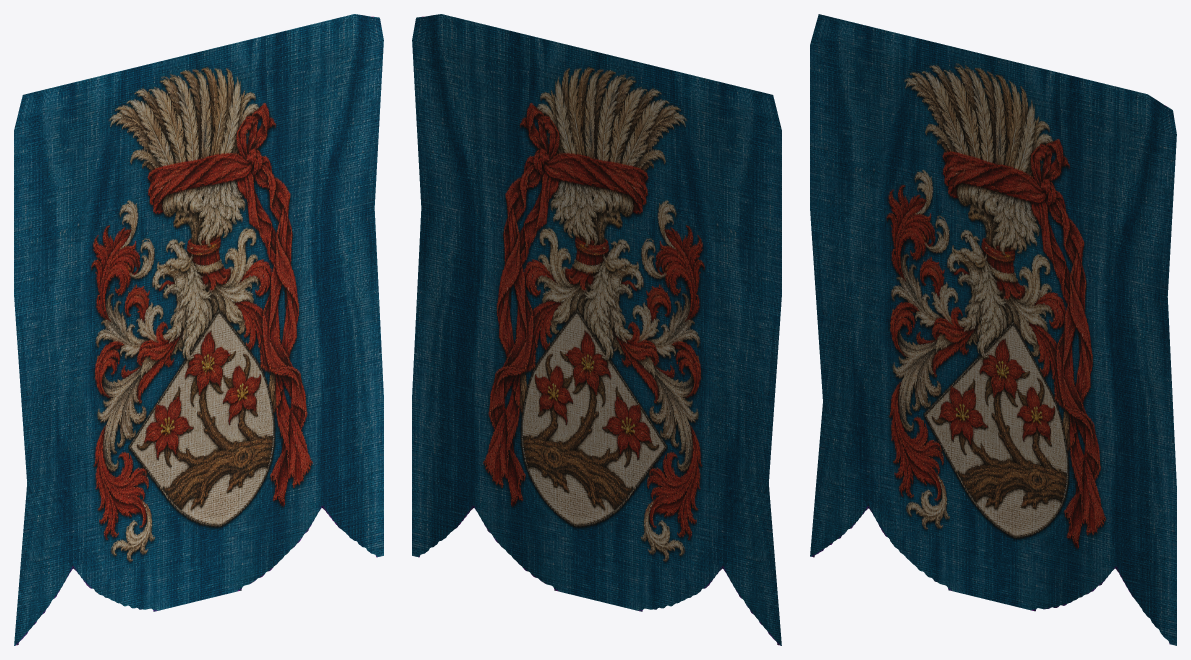
Rendered from mm9_deco_tapestry_banner1.glb.
The picture shows the model from 3 angles, left to right: view 1: azimuth 30°, elevation 25°; view 2: azimuth 150°, elevation 25°; view 3: azimuth 330°, elevation 25°; orthographic projection.
Visible parts, largest first — view 1: Tapestry_banner1; view 2: Tapestry_banner1; view 3: Tapestry_banner1.
Boxes of the visible parts, x1,y1,x2,y2 form: Tapestry_banner1: [14, 14, 383, 645]; Tapestry_banner1: [412, 14, 781, 645]; Tapestry_banner1: [810, 14, 1176, 645].
Size of the model in its own units: 1.63 by 2.31 by 2.59e-07.
Materials: 1 (1 with a texture image).
